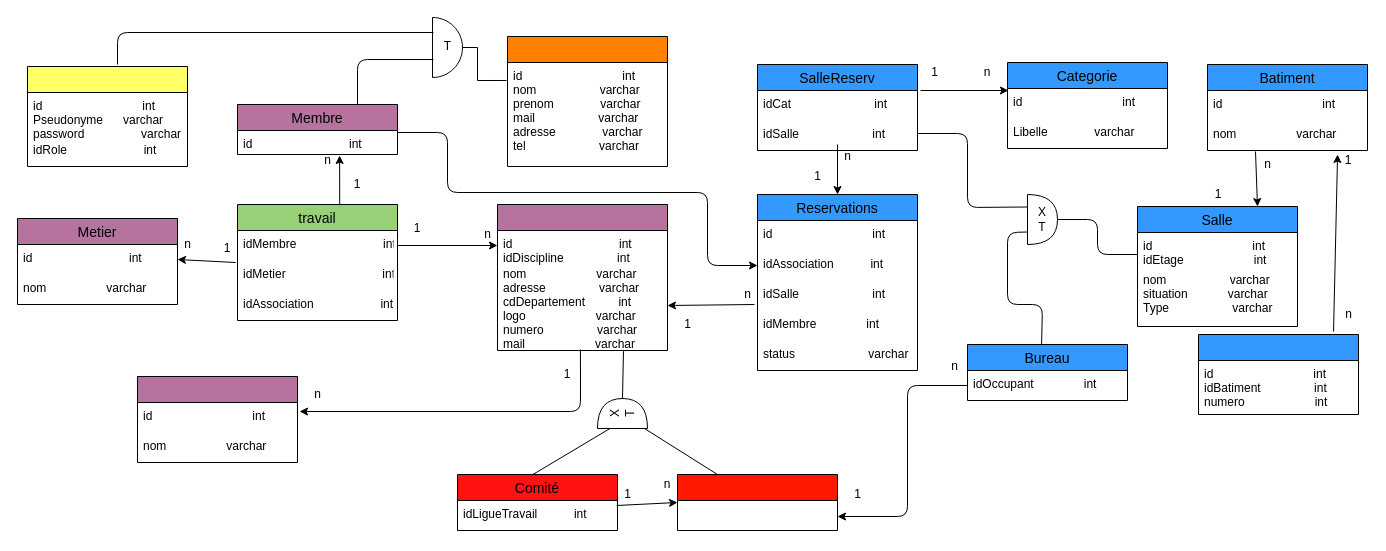
Some shapes in this 1386 by 551 pixel diagram are drawn without their labels. The shapes that lost their labels are listed below. From the top down, each one's box as (x1, y1, x2, y2) in pixels, then its label:
(26, 66, 188, 166): utilisateur
(506, 36, 668, 166): Personne
(496, 204, 668, 350): Association
(1198, 334, 1358, 414): Etage
(136, 376, 298, 462): Discipline
(676, 474, 838, 530): Ligue
